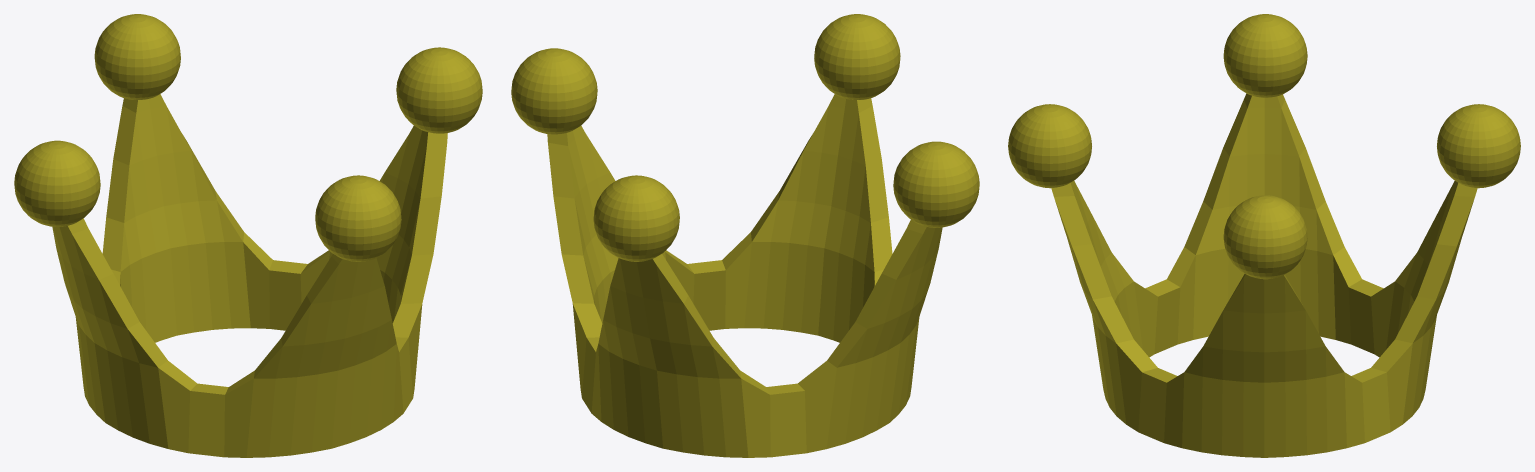
The model's file is crown.fbx.
3 renders of one model, left to right at view 1: azimuth 30°, elevation 25°; view 2: azimuth 150°, elevation 25°; view 3: azimuth 270°, elevation 25°, orthographic. The views are drawn at different scales.
Visible parts, largest first — view 1: Torus.000; view 2: Torus.000; view 3: Torus.000.
Boxes of the visible parts, left/top/right/bottom form: Torus.000: left=14, top=14, right=482, bottom=457; Torus.000: left=511, top=14, right=979, bottom=457; Torus.000: left=1008, top=14, right=1520, bottom=457.
Bounding box in the file's own units: 366 × 222 × 366.
